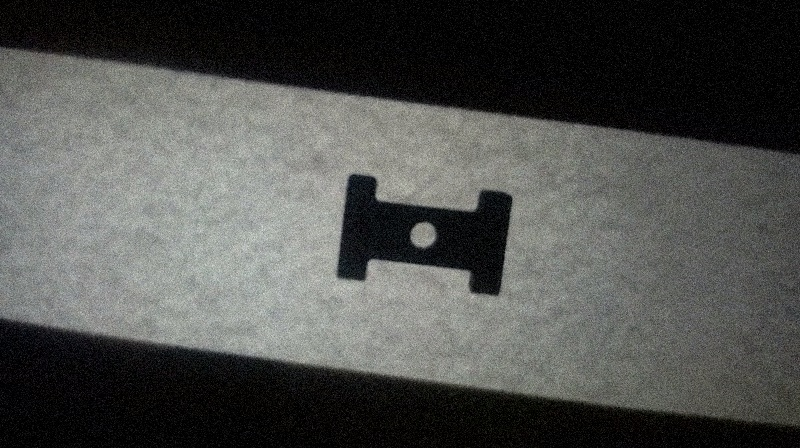O002: (331, 171, 515, 298)
